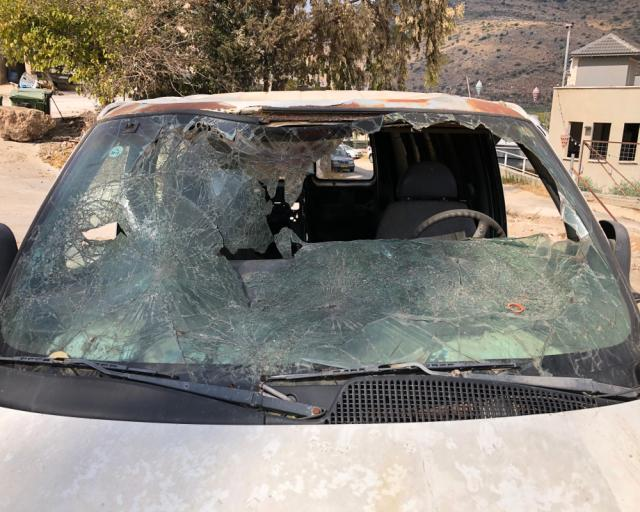glass shatter: (0, 111, 640, 391)
